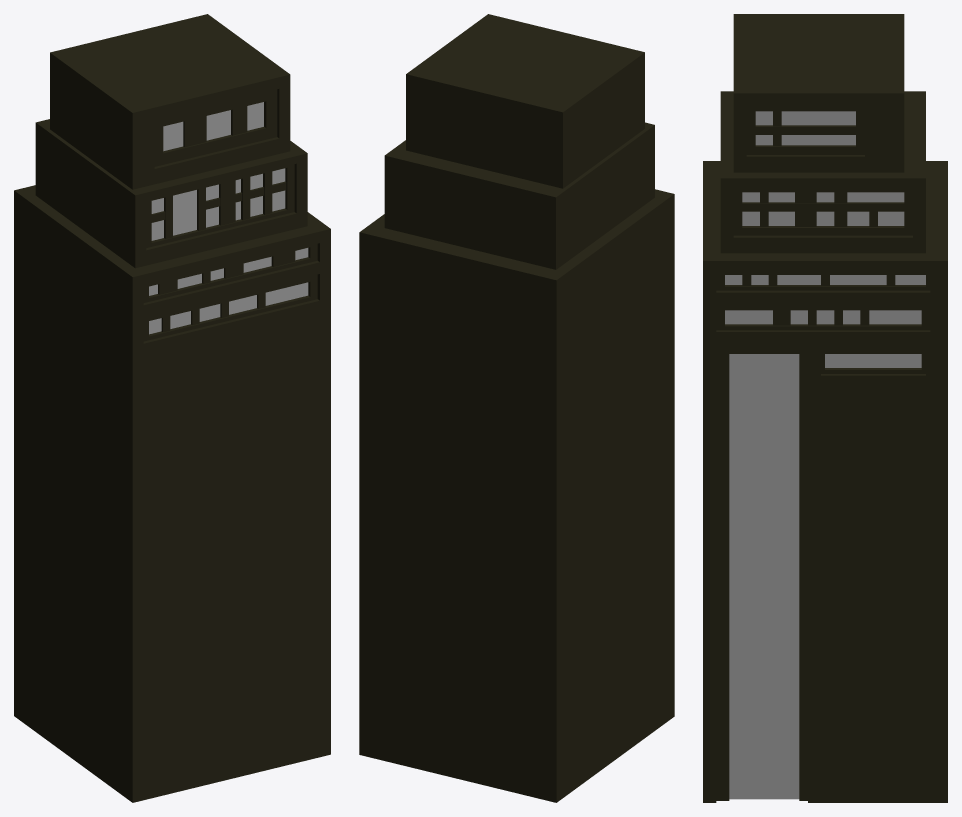
Rendered from Building_Mesh_010.fbx.
3 renders of one model, left to right at view 1: azimuth 30°, elevation 25°; view 2: azimuth 150°, elevation 25°; view 3: azimuth 270°, elevation 25°, orthographic. The views are drawn at different scales.
Visible parts, largest first — view 1: Building_010; view 2: Building_010; view 3: Building_010.
Boxes of the visible parts, x1,y1,x2,y2 form: Building_010: [14, 14, 330, 802]; Building_010: [359, 14, 674, 802]; Building_010: [703, 14, 947, 802].
Bounding box in the file's own units: 5.4 × 17.59 × 5.6.
